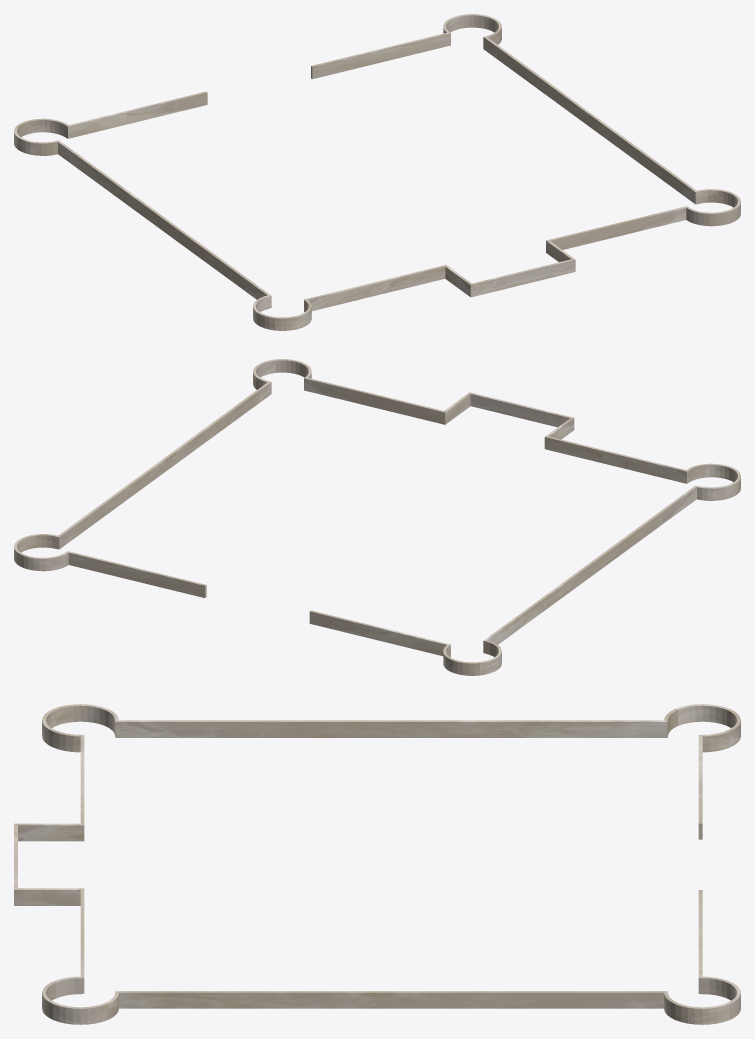
File: Palace Banisters.fbx
3 views of the same model, one above another, from view 1: azimuth 30°, elevation 25°; view 2: azimuth 150°, elevation 25°; view 3: azimuth 270°, elevation 25° (orthographic). The views are drawn at different scales.
Visible parts, largest first — view 1: Circle.001; view 2: Circle.001; view 3: Circle.001.
Part boxes in pixels (x1=…): Circle.001: x1=14, y1=14, x2=740, y2=330; Circle.001: x1=14, y1=359, x2=740, y2=675; Circle.001: x1=14, y1=704, x2=740, y2=1024.
Bounding box in the file's own units: 9382 × 229 × 9458.
1 material, 1 textured.
